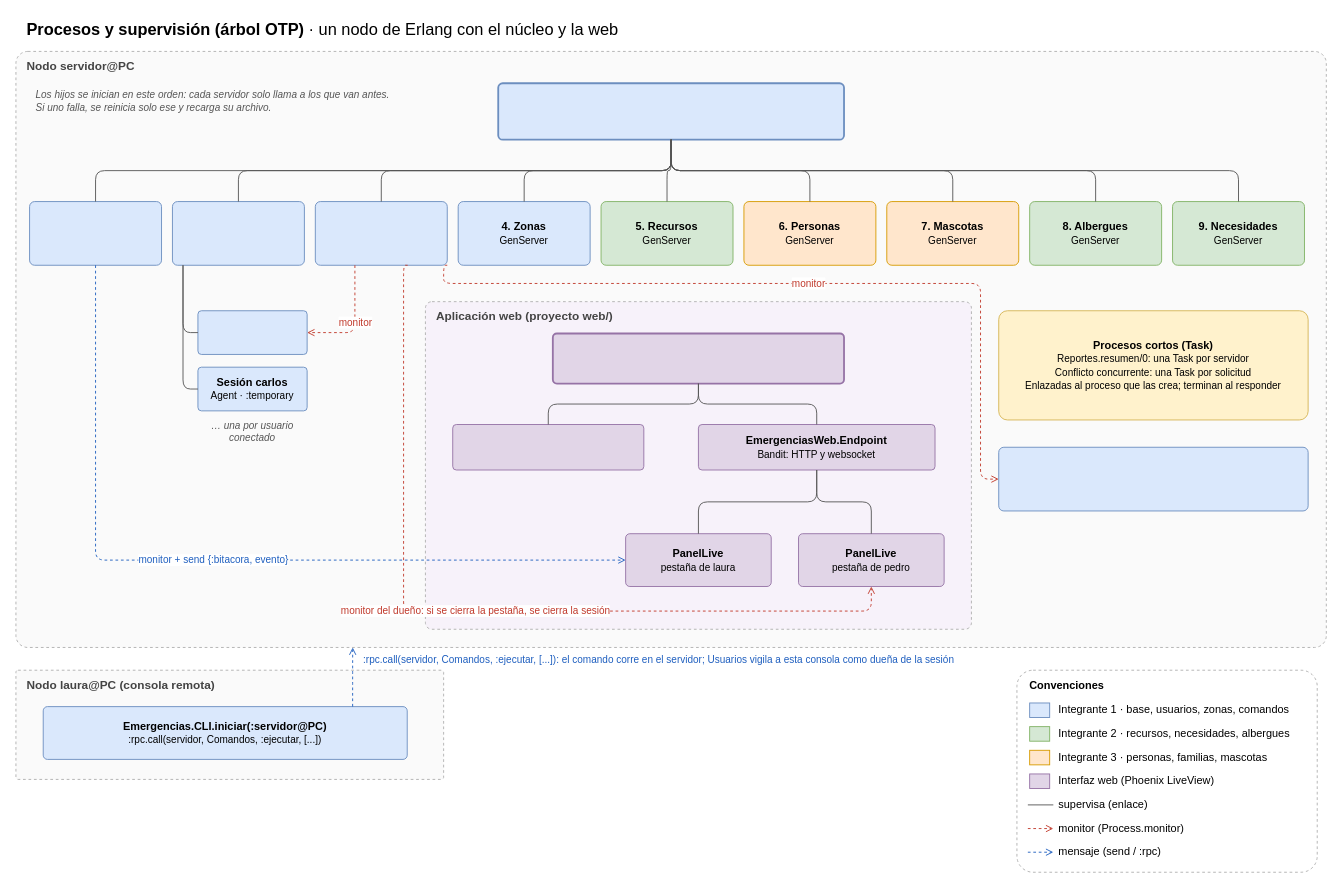
This 1342x888 diagram has some shape labels left out. Each missing label, with the box of its shape:
1. Bitacora spawn_link receive recursivo: (29, 201, 162, 265)
2. SupervisorSesiones DynamicSupervisor :one_for_one: (172, 201, 304, 265)
3. Usuarios GenServer: (314, 201, 447, 265)
Emergencias.CLI (consola local) proceso de mix consola, dueño de su sesión: (998, 446, 1308, 511)
Emergencias.Supervisor :one_for_one · max_restarts: 10 en 5 s: (497, 82, 844, 140)
EmergenciasWeb.Supervisor :one_for_one: (551, 332, 844, 384)
Phoenix.PubSub: (452, 424, 644, 470)
Sesión laura Agent · :temporary: (197, 310, 307, 354)
